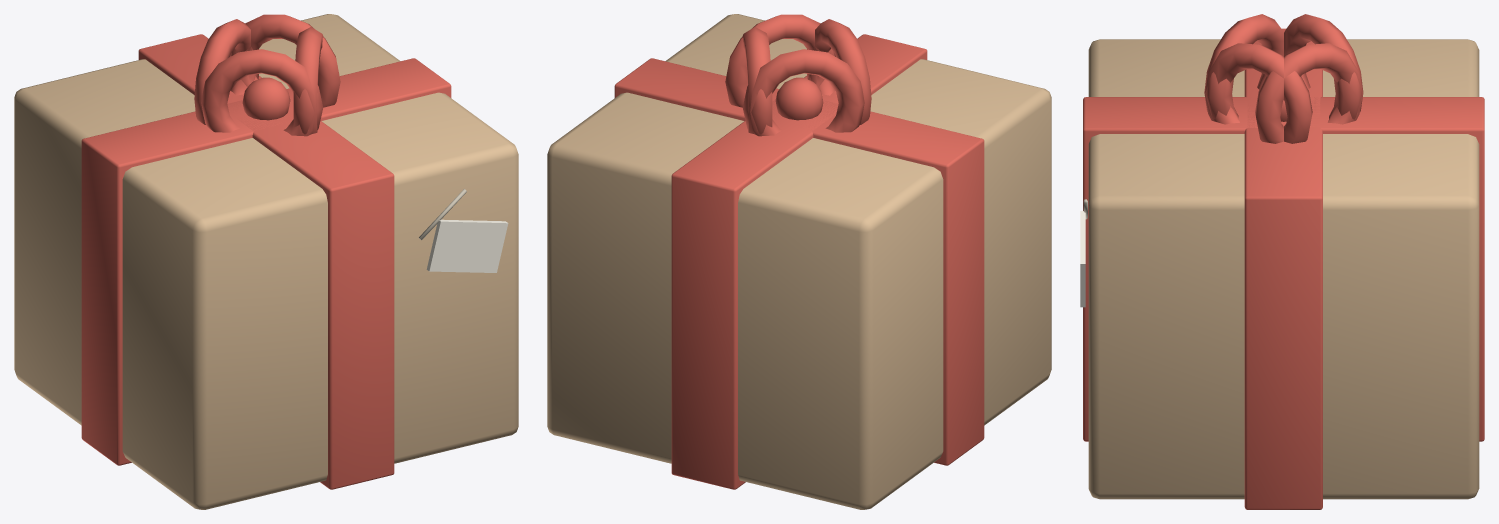
The model's file is Parcel.glb.
The picture shows the model from 3 angles, left to right: view 1: azimuth 30°, elevation 25°; view 2: azimuth 150°, elevation 25°; view 3: azimuth 270°, elevation 25°; orthographic projection. The views are drawn at different scales.
Parts seen in each view (by area): view 1: Parcel; view 2: Parcel; view 3: Parcel.
Part boxes in pixels (box(x1,y1,x2,y2)): Parcel: box(14, 14, 518, 509); Parcel: box(547, 14, 1051, 509); Parcel: box(1080, 14, 1484, 509).
Size of the model in its own units: 1.44 by 1.57 by 1.45.
Materials: 1 (1 with a texture image).
